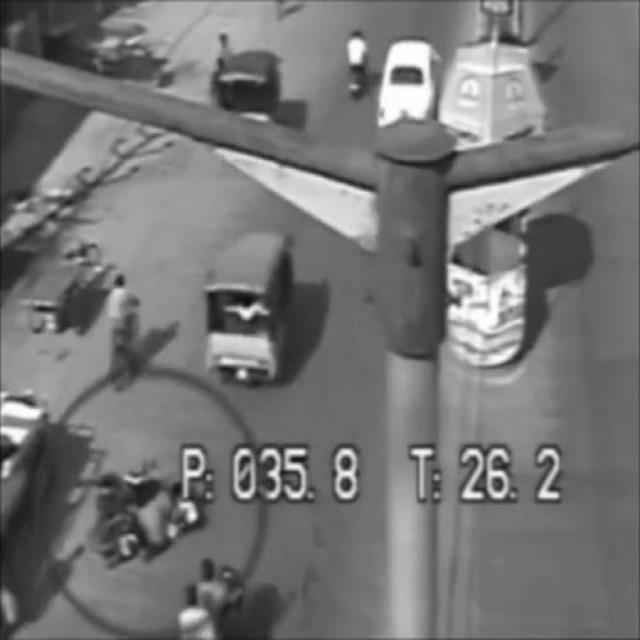vehicle: (197, 232, 290, 378), (82, 463, 204, 567), (380, 40, 441, 131), (104, 271, 142, 379), (344, 31, 368, 104)
